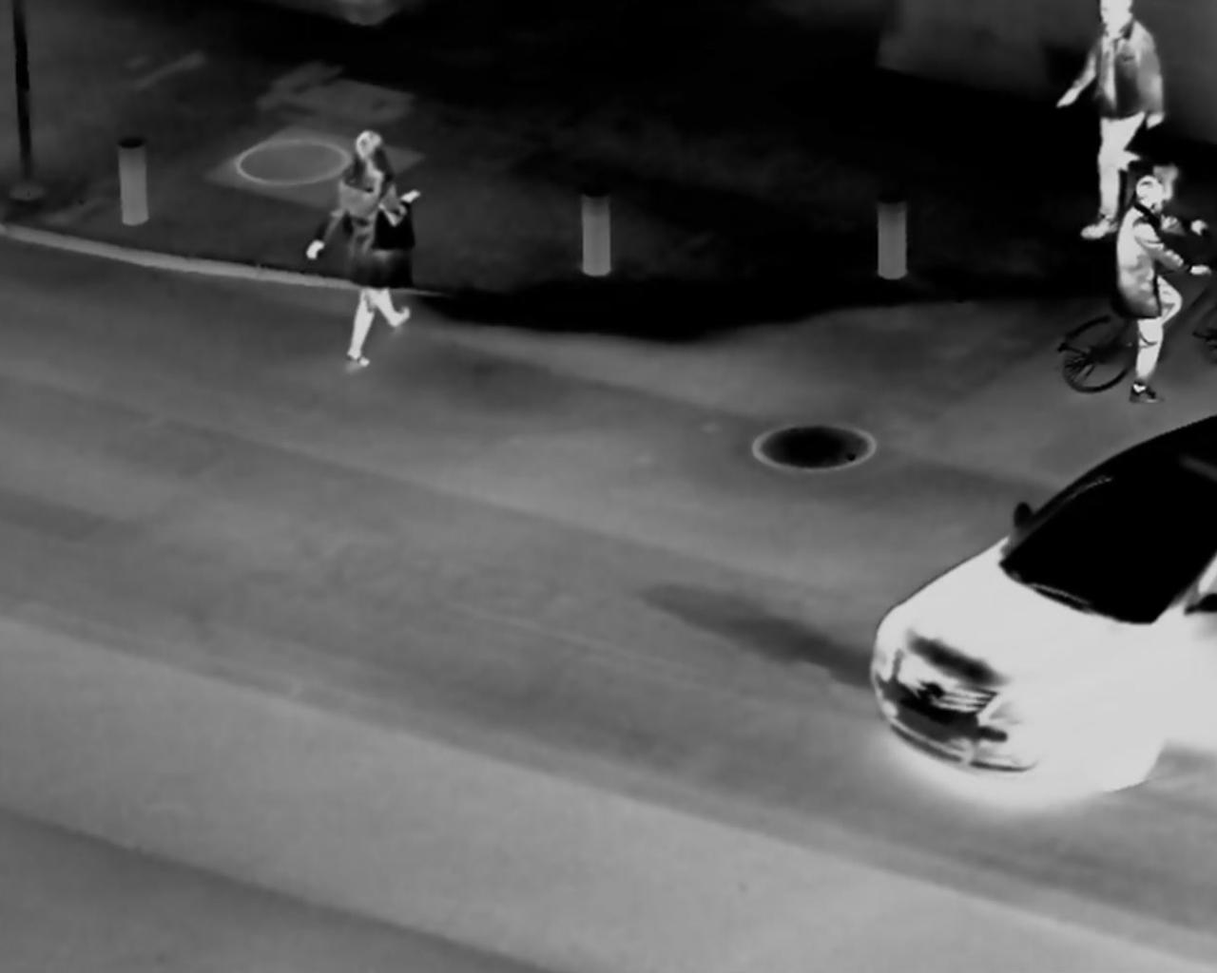person: (308, 124, 417, 363), (1111, 162, 1207, 398), (1072, 5, 1161, 239)
